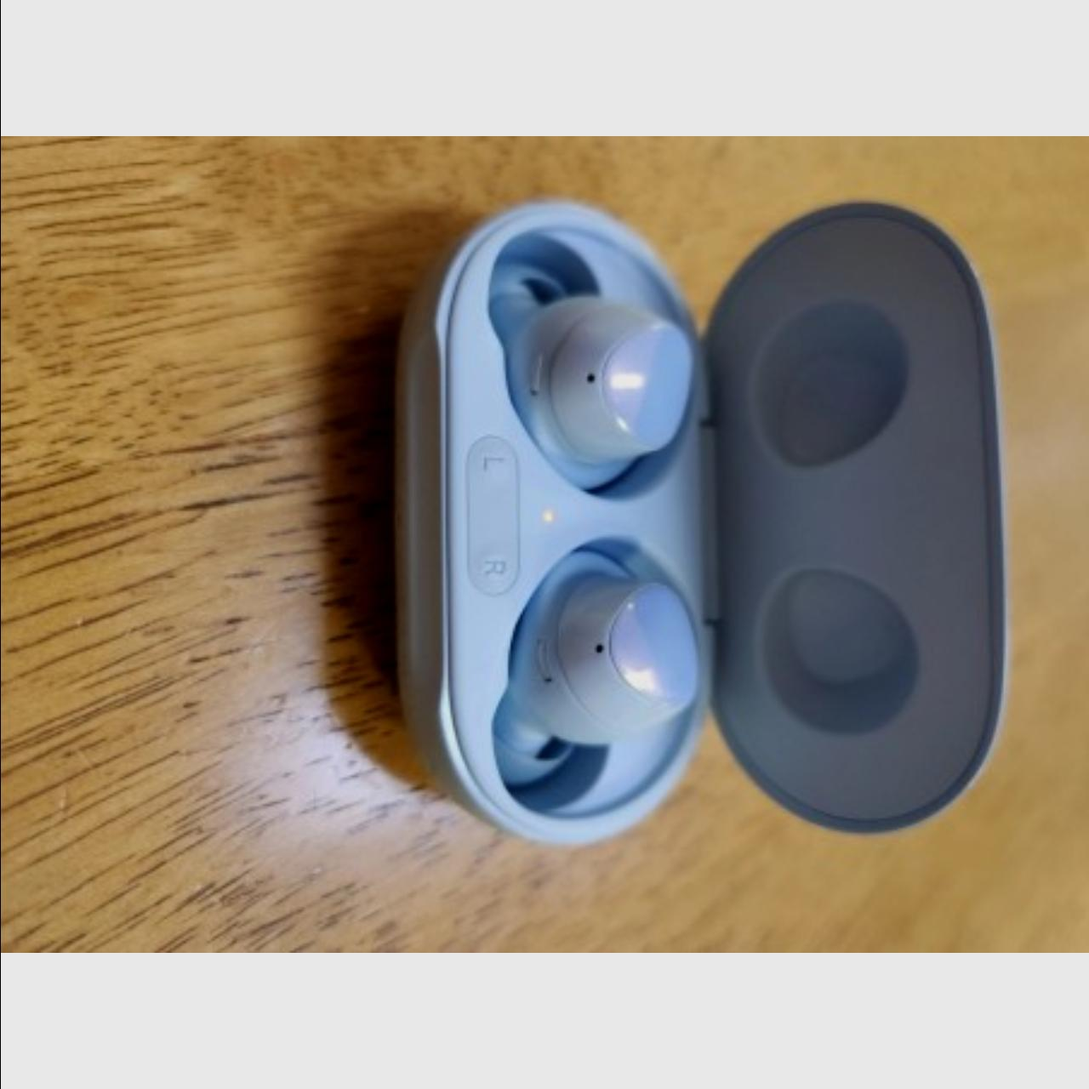Buds: (371, 188, 1013, 855)
Buds_Units: (486, 543, 708, 801), (490, 256, 698, 506)
